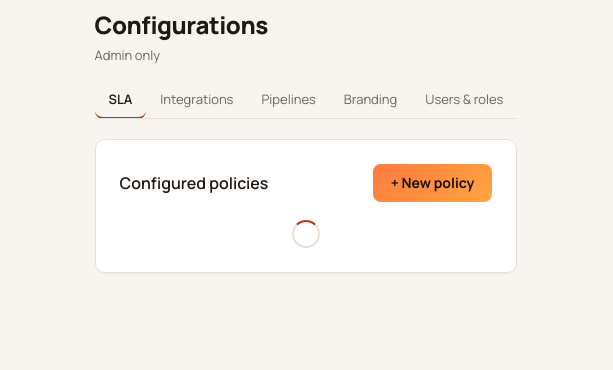
ConfigurationsPage › switching to Users & roles shows a read-only user table
The image size is (613, 370).
Click the button "Users & roles".
click(464, 100)  # box [411,81,518,119]
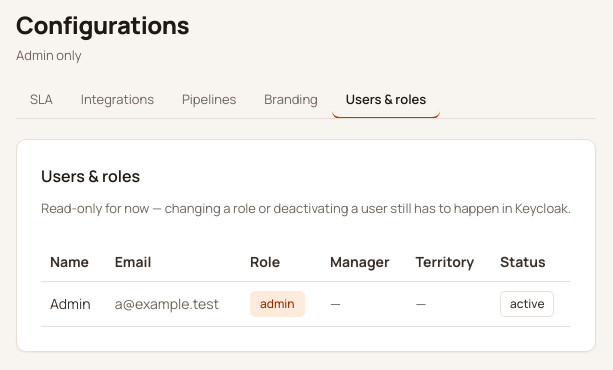
Check: the text "Admin" is shown, box [41,282,106,326]
Check: the text "Read-only for now" is shown, box [41,199,571,217]
